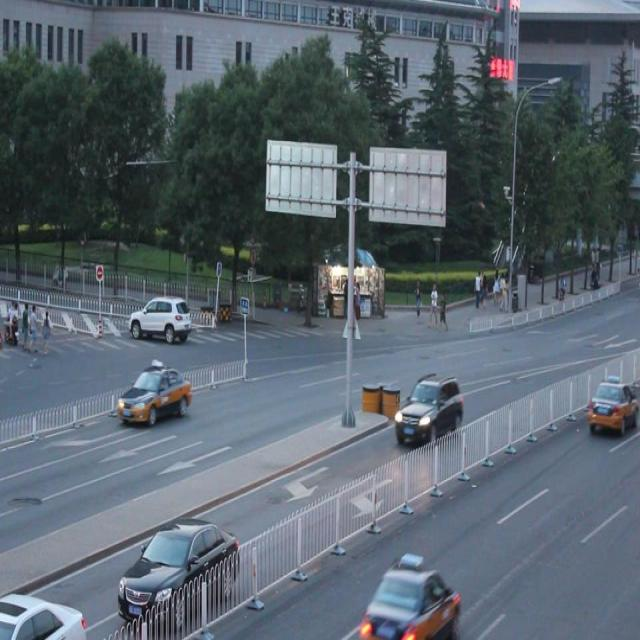car: (118, 520, 240, 632), (362, 562, 459, 640), (391, 374, 464, 444), (117, 362, 192, 423), (0, 590, 86, 640), (128, 294, 193, 346), (586, 375, 640, 430)
